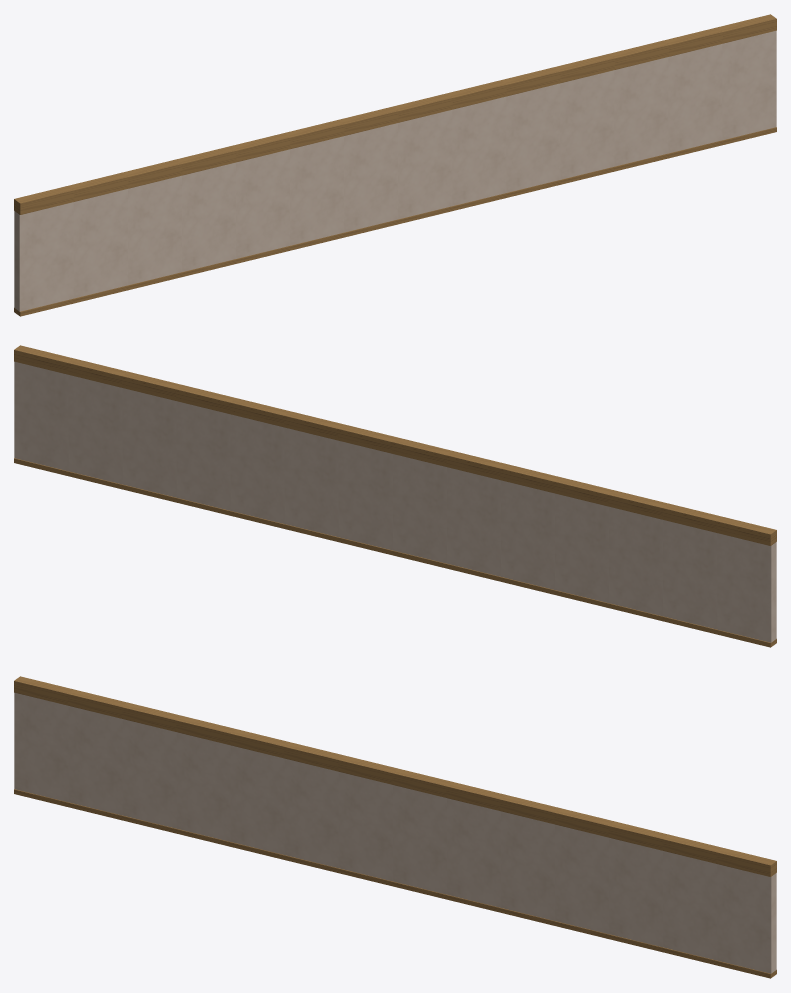
The model's file is wall_14.fbx.
3 renders of one model, top to bottom at view 1: azimuth 30°, elevation 25°; view 2: azimuth 150°, elevation 25°; view 3: azimuth 330°, elevation 25°, orthographic.
Visible parts, largest first — view 1: Cube.242; view 2: Cube.242; view 3: Cube.242.
Part boxes in pixels (x1,y1,x2,y2): Cube.242: [14, 14, 776, 316]; Cube.242: [14, 345, 776, 647]; Cube.242: [14, 676, 776, 978].
Bounding box in the file's own units: 1400 × 200 × 20.
